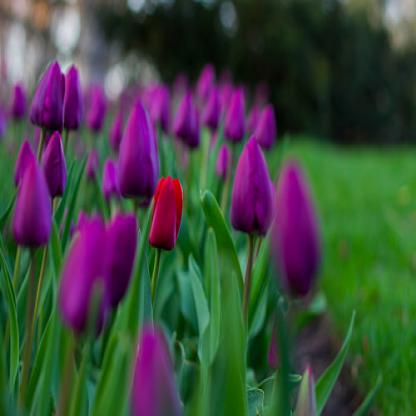TULIP: (20, 47, 342, 376)
